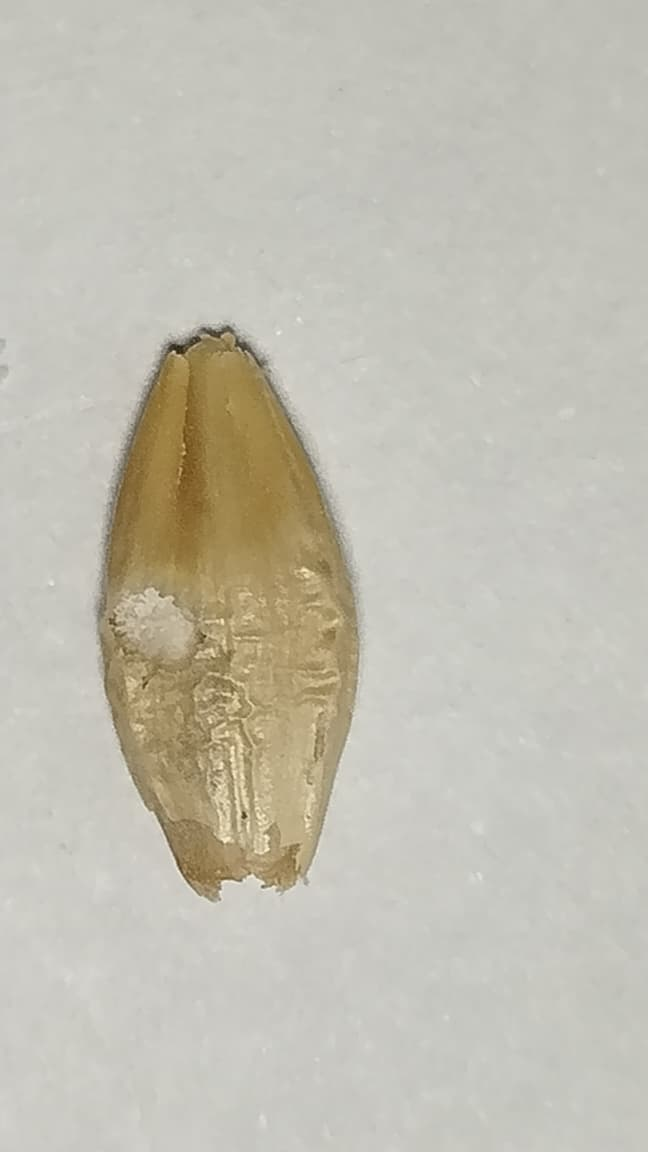healthy-70-60: (99, 333, 357, 899)
insectdamage: (98, 579, 248, 718)
shriveledseed: (125, 594, 255, 841), (241, 572, 366, 770)
